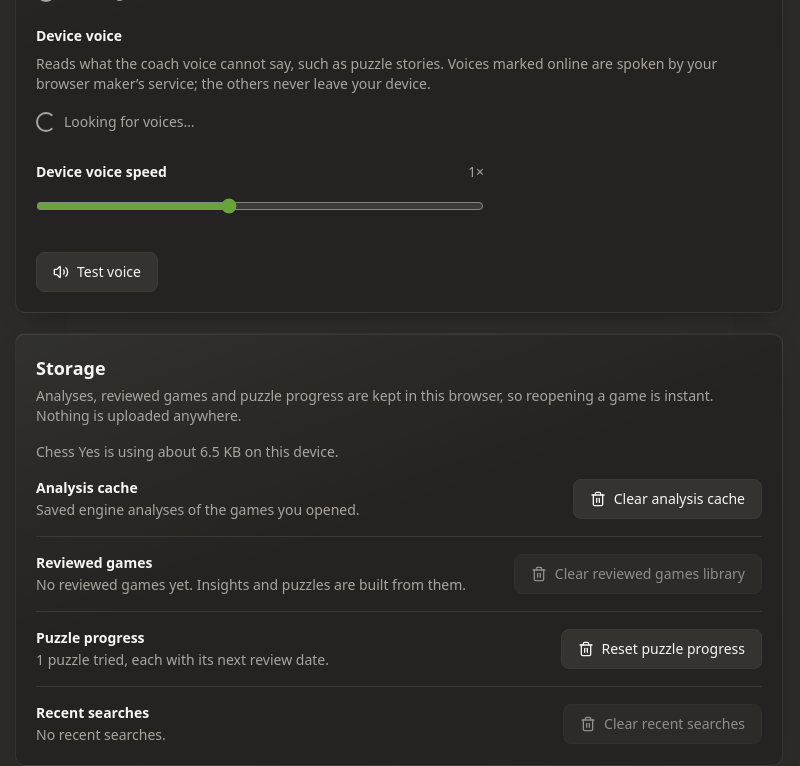
it: SettingsPage storage › resets puzzle progress
(page scrolled)
Expected: the text "1 puzzle tried, each with its next review date." is shown, [36,650,329,670]
Click the button "Reset puzzle progress": click(661, 649) [560,629,762,669]
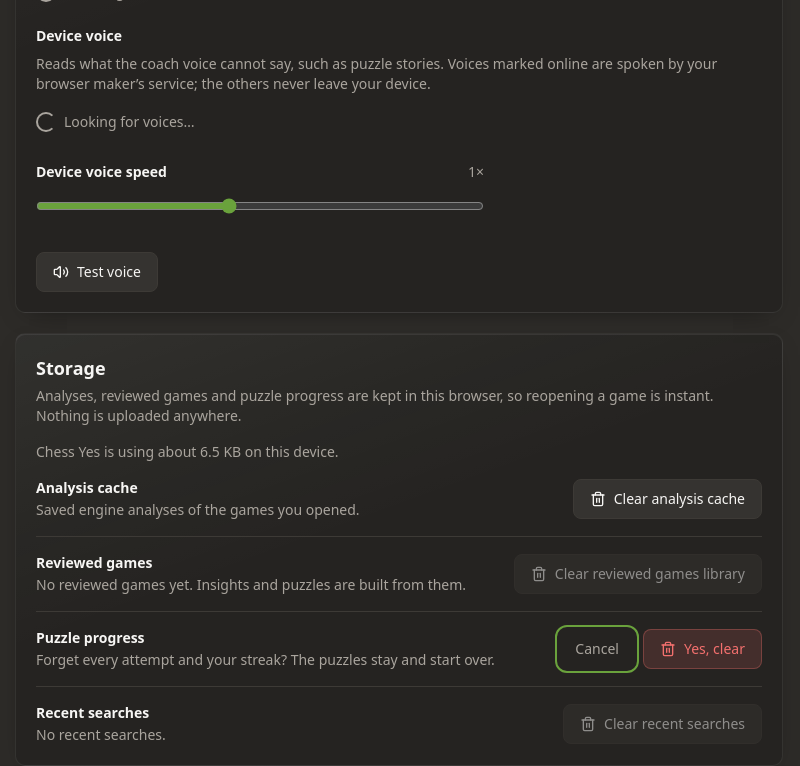
Click the button "Yes, clear": click(702, 649) [643,629,762,669]
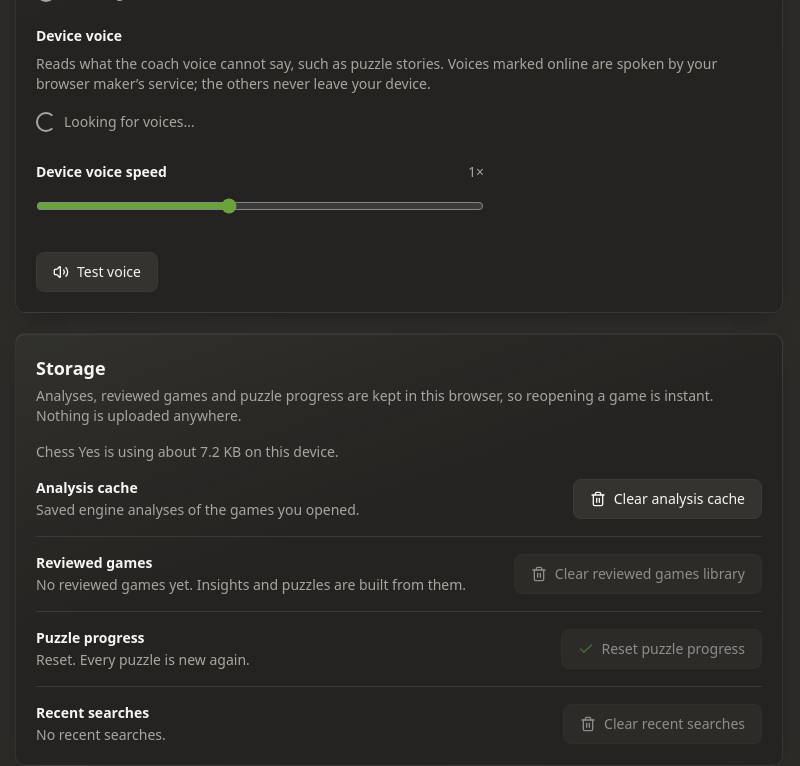
Expected: the text "Reset. Every puzzle is new again." is shown, [36,650,250,670]
